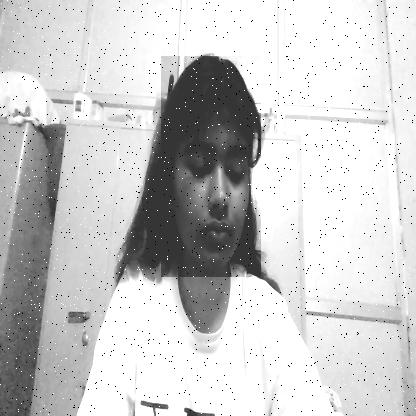Normal: (160, 56, 260, 277)
